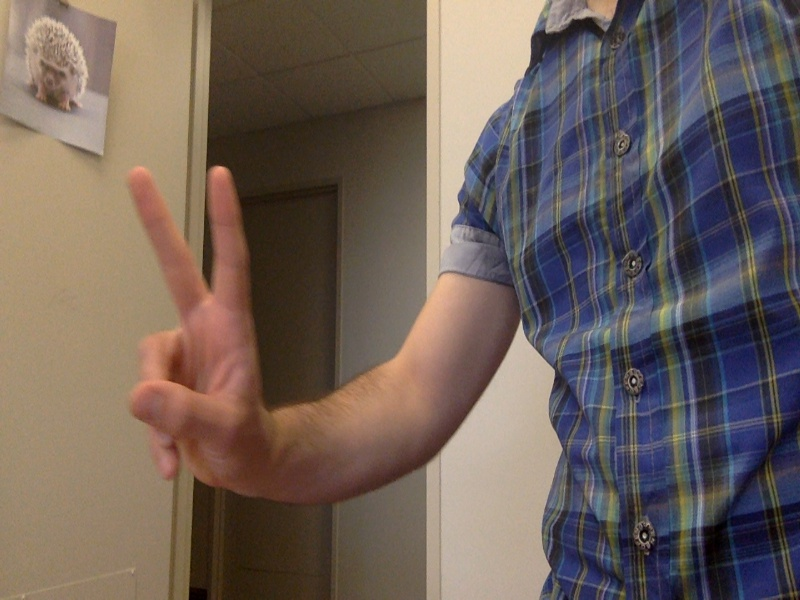2-hand: (121, 164, 289, 508)
